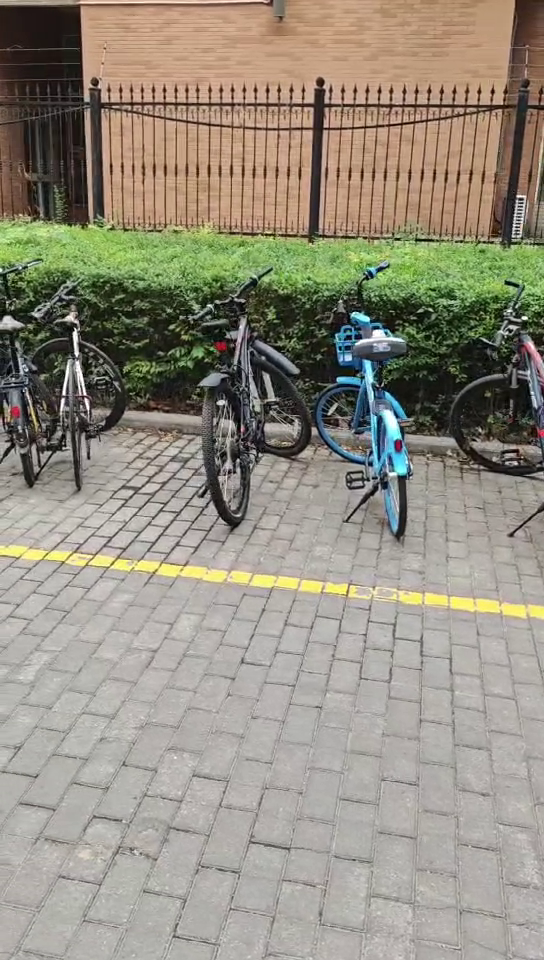others: (180, 268, 297, 527), (449, 277, 544, 576), (25, 278, 123, 478)
shared_bike_haluo: (305, 264, 442, 534)
